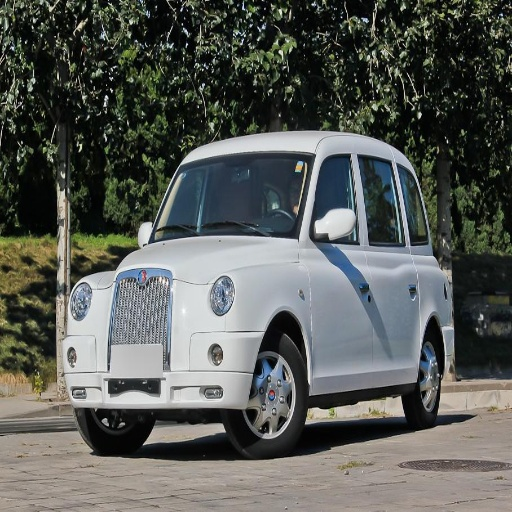front_bumper: (62, 267, 263, 407)
front_glass: (158, 153, 313, 238)
front_left_door: (311, 151, 381, 391)
trunk: (419, 259, 453, 334)
